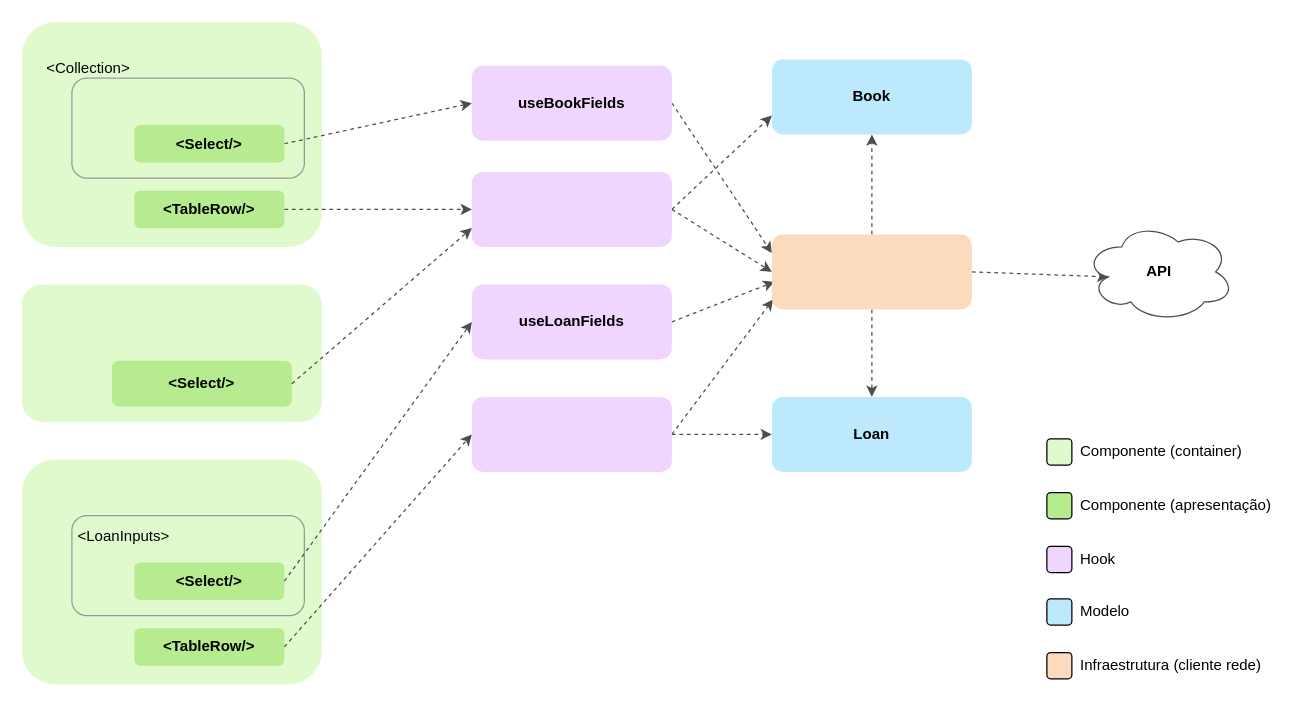
Some shapes in this 1293 by 705 pixel diagram are drawn without their labels. The box of each missing label's shape, as (x1, y1, x2, y2) in pixels:
<CollectionInputs>: (71, 77, 304, 178)
<LoanDialog>: (21, 284, 321, 421)
<Loans>: (21, 459, 321, 684)
NetworkClient: (771, 234, 971, 309)
useBooks: (471, 171, 671, 246)
useLoans: (471, 396, 671, 471)
